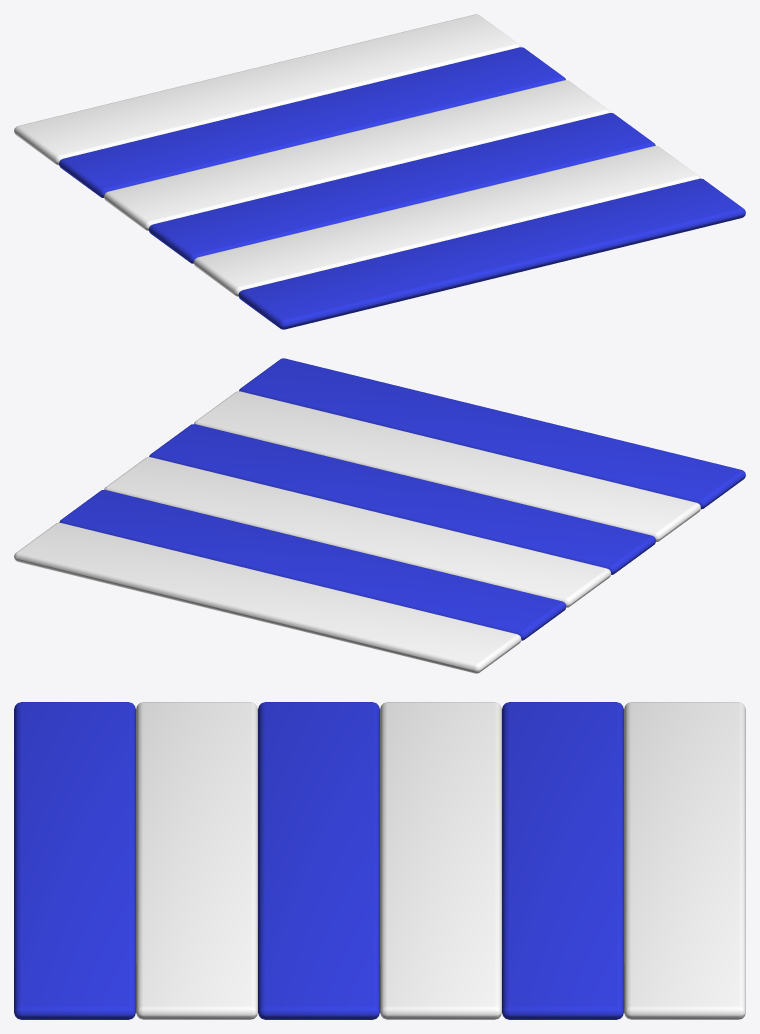
The model's file is RoomGround4.fbx.
3 views of the same model, one above another, from view 1: azimuth 30°, elevation 25°; view 2: azimuth 150°, elevation 25°; view 3: azimuth 270°, elevation 25° (orthographic). The views are drawn at different scales.
Parts seen in each view (by area): view 1: RoomGround4; view 2: RoomGround4; view 3: RoomGround4.
Boxes of the visible parts, x1,y1,x2,y2 form: RoomGround4: [14, 14, 745, 329]; RoomGround4: [14, 358, 745, 673]; RoomGround4: [14, 702, 745, 1019].
Bounding box in the file's own units: 6 × 6 × 0.12.
